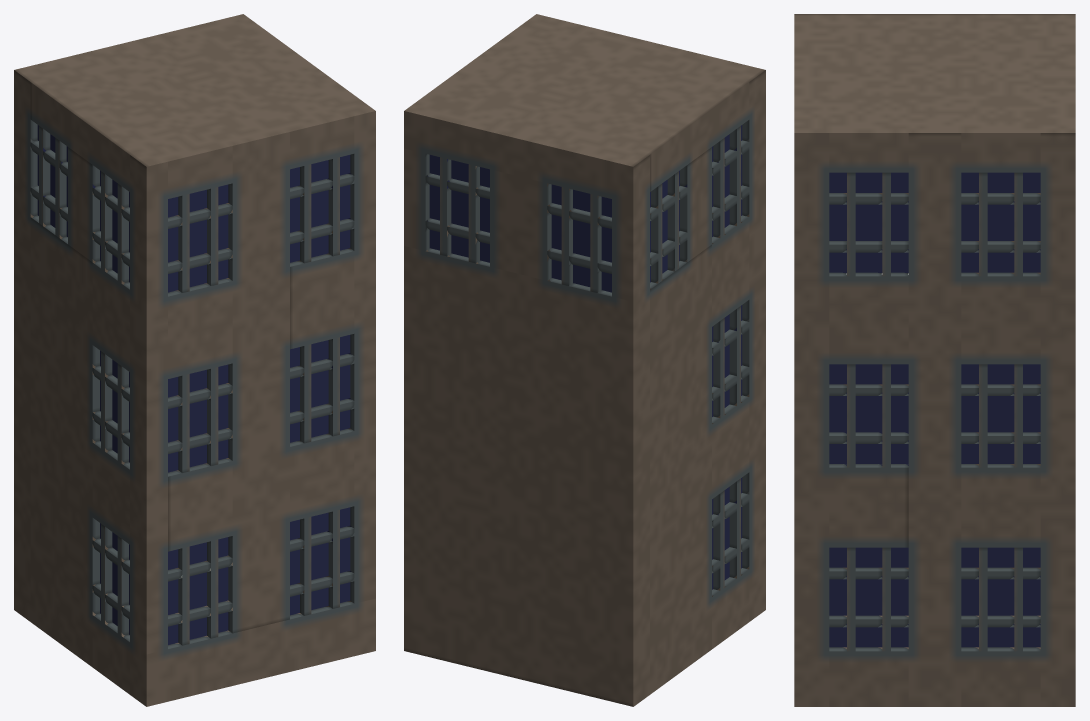
File: budynki_dzielnia_3.dae
3 views of the same model, side by side, from view 1: azimuth 30°, elevation 25°; view 2: azimuth 150°, elevation 25°; view 3: azimuth 270°, elevation 25° (orthographic). The views are drawn at different scales.
Parts seen in each view (by area): view 1: Content; view 2: Content; view 3: Content.
Boxes of the visible parts, box(x1,y1,x2,y2) form: Content: box(14, 14, 375, 706); Content: box(404, 14, 765, 706); Content: box(794, 14, 1075, 706).
Size of the model in its own units: 32 by 72 by 32.
Materials: 1 (1 with a texture image).
